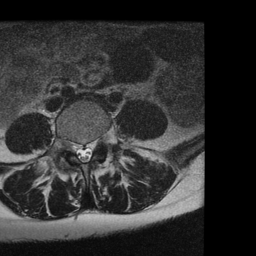CCS_normal: (80, 136, 87, 170)
LFS_normal: (93, 130, 102, 154)
LLS_normal: (87, 136, 93, 165)
RFS_normal: (66, 132, 74, 158)
RLS_normal: (74, 136, 80, 164)
